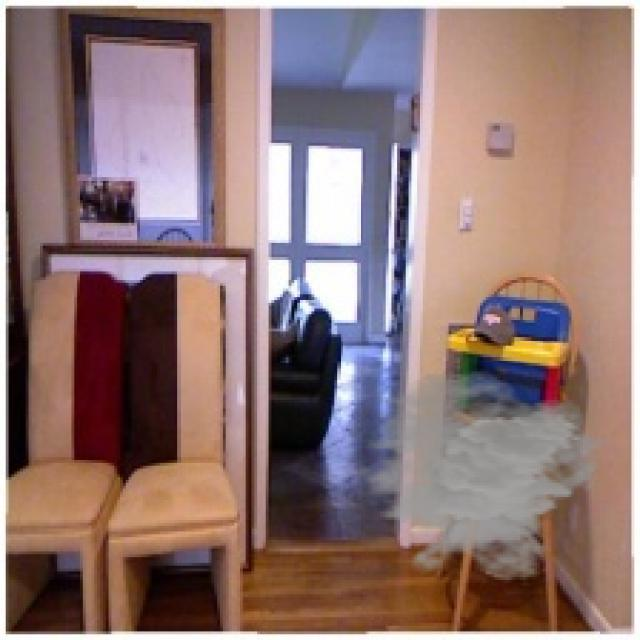smoke: (340, 368, 611, 583)
